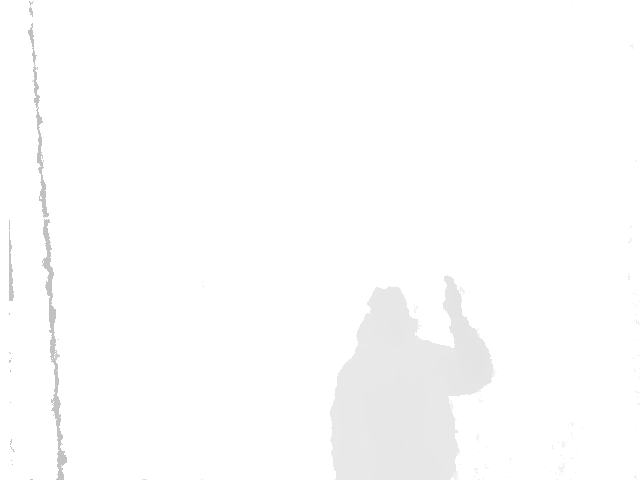hand: (439, 274, 464, 322)
head: (357, 283, 416, 346)
person: (329, 274, 494, 478)
